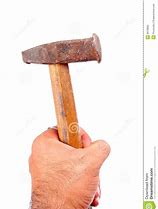hammer: (20, 32, 106, 208)
